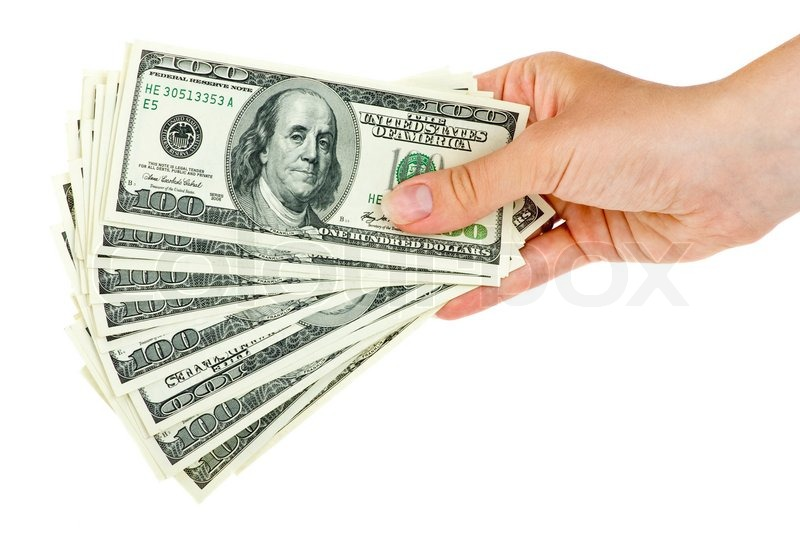billete: (48, 33, 562, 508)
